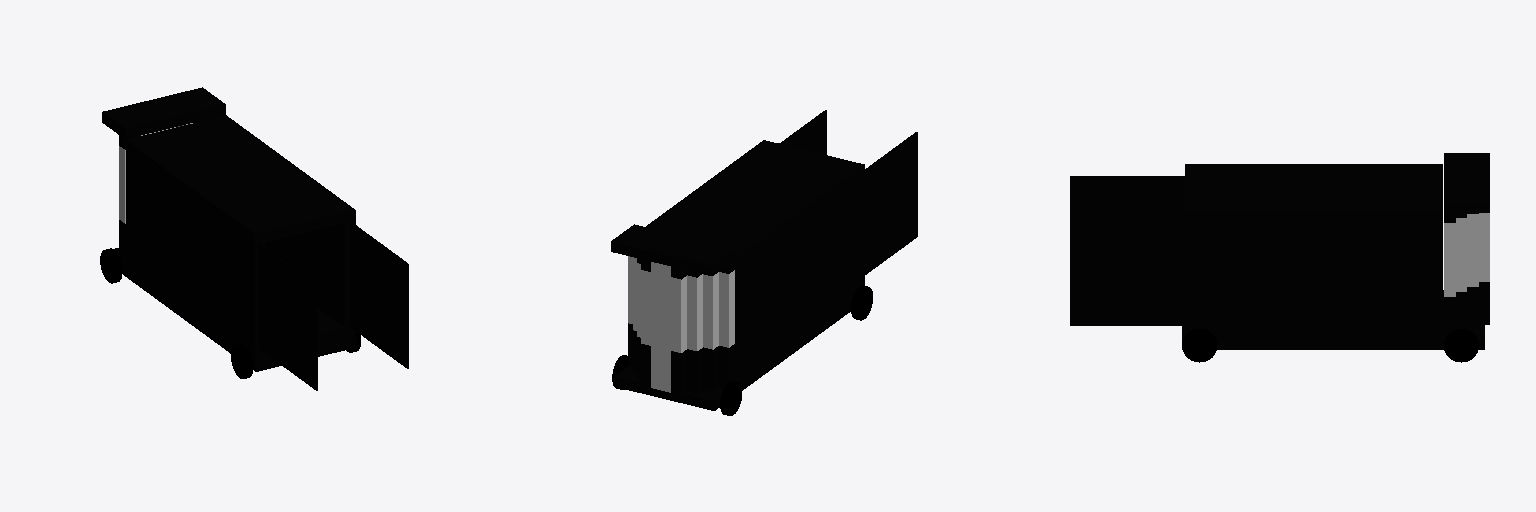
The model's file is Truck.obj.
3 renders of one model, left to right at view 1: azimuth 30°, elevation 25°; view 2: azimuth 150°, elevation 25°; view 3: azimuth 270°, elevation 25°, orthographic.
Parts seen in each view (by area): view 1: Cube.006, Cube.002_Cube.019, Cube.003_Cube.020, Cylinder.001, Cylinder, Cube.001_Cube.017; view 2: Cube.006, Cube.001_Cube.017, Cube.004_Cube.012, Cube.002_Cube.019, Cube.003_Cube.020, Cube_Cube.018, Cylinder, Cylinder.001; view 3: Cube.006, Cube.001_Cube.017, Cube.003_Cube.020, Cube.002_Cube.019, Cube.004_Cube.012, Cylinder.002, Cylinder.003.
Part boxes in pixels (x1,y1,x2,y2): Cube.006: (126,115,408,390); Cube.002_Cube.019: (102,87,225,138); Cube.003_Cube.020: (114,248,356,371); Cylinder.001: (100,248,122,283); Cylinder: (231,344,252,378); Cube.001_Cube.017: (119,123,192,223); Cube.006: (646,110,917,382); Cube.001_Cube.017: (628,256,734,352); Cube.004_Cube.012: (628,323,734,394); Cube.002_Cube.019: (611,224,734,275); Cube.003_Cube.020: (614,301,851,410); Cube_Cube.018: (651,262,670,392); Cylinder: (851,285,872,320); Cylinder.001: (720,381,741,415); Cube.006: (1070,164,1442,338); Cube.001_Cube.017: (1444,213,1489,296); Cube.003_Cube.020: (1182,290,1484,349); Cube.002_Cube.019: (1444,153,1489,212); Cube.004_Cube.012: (1444,282,1489,338); Cylinder.002: (1444,329,1478,362); Cylinder.003: (1182,329,1216,362).
Bounding box in the file's own units: 22.41 × 30 × 72.4.